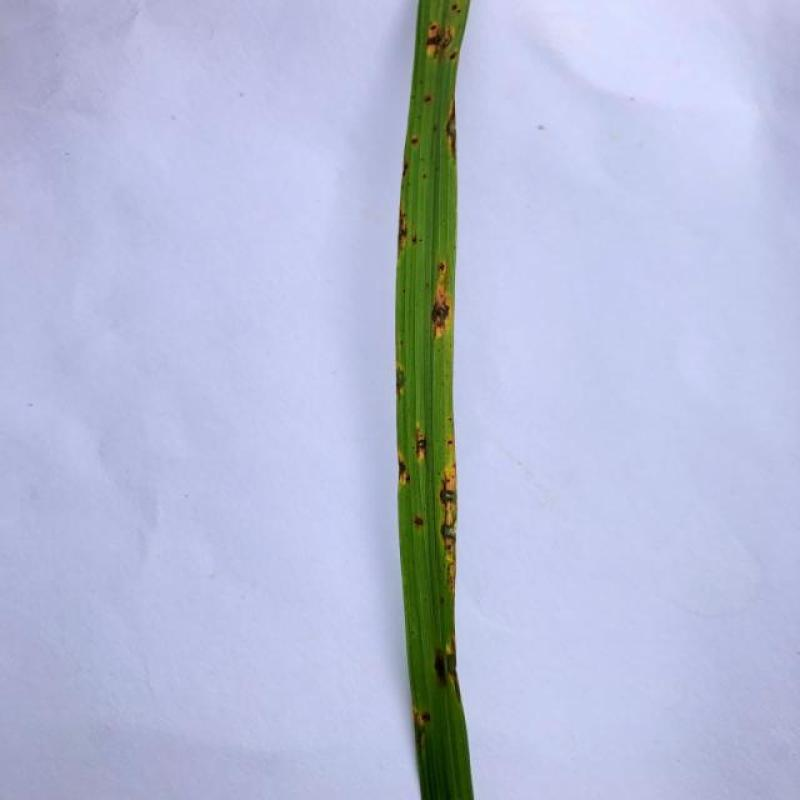Leaf_Blast: (419, 472, 476, 562), (388, 426, 444, 489), (422, 630, 456, 695), (416, 282, 458, 332), (434, 108, 476, 158), (388, 214, 420, 260), (435, 18, 463, 57), (410, 706, 435, 732)
